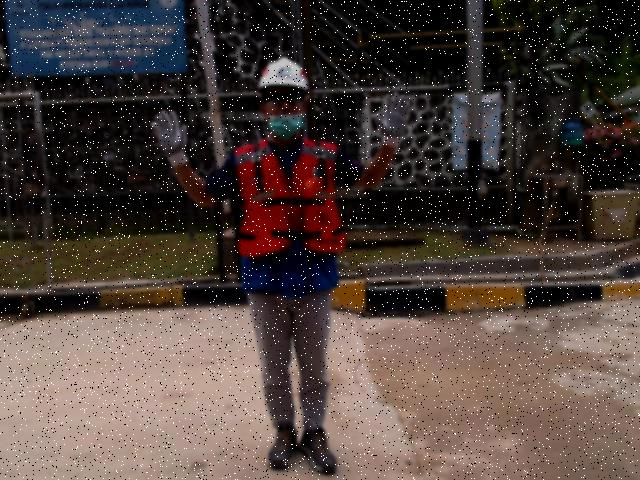glasses: (263, 89, 304, 108)
gloves: (149, 98, 195, 177), (373, 90, 413, 152)
helmet: (252, 56, 318, 96)
mask: (266, 112, 304, 140)
safety-shoes: (299, 424, 339, 474), (266, 422, 300, 469)
vest: (238, 176, 347, 262)
